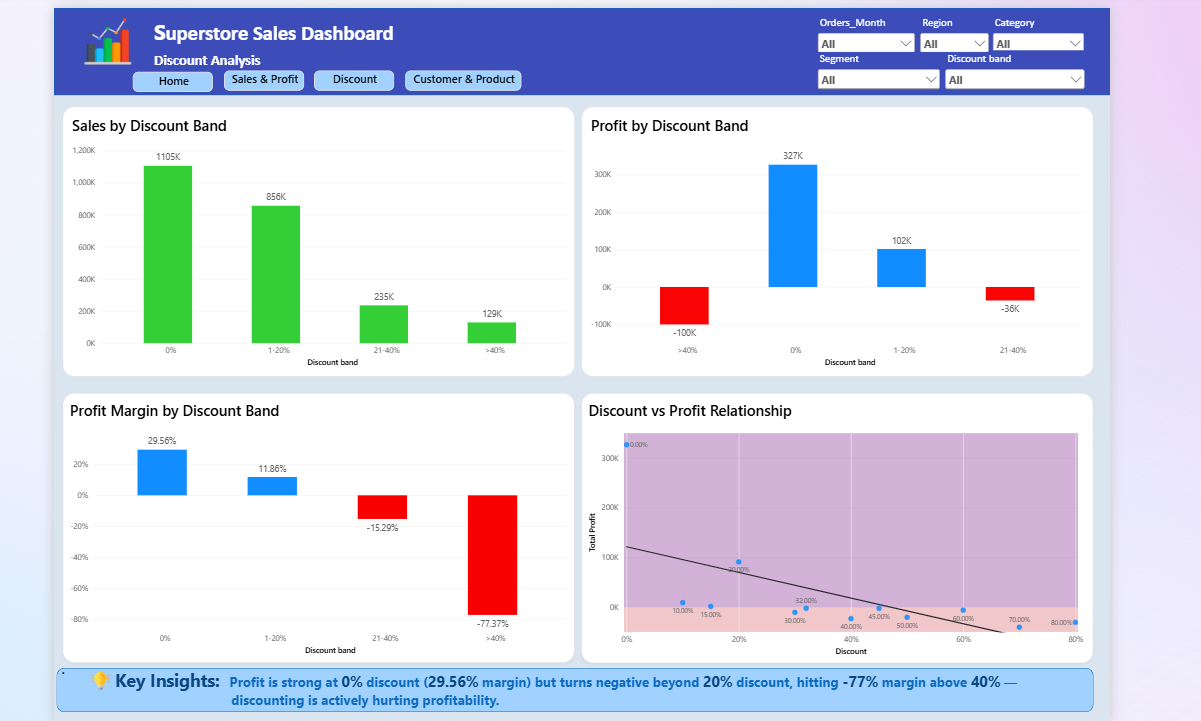

What the dashboard file says about the page in this screenshot:
{"tool":"powerbi","page":{"name":"Discount Analysis","canvas":[1920,1300],"ordinal":2},"visuals":[{"type":"group","id":"g1","title":"Group 1","box":[0,0,1920,158.6],"z":0},{"type":"shape","box":[0,0,1920,158.6],"z":0,"group":"g2"},{"type":"group","id":"g2","title":"Group 2","box":[0,0,1920,158.6],"z":0,"group":"g1"},{"type":"shape","box":[5.6,1200.8,1885.7,80],"z":0,"group":"g4"},{"type":"textbox","box":[181.6,18.8,987.1,60.5],"z":1000,"group":"g2"},{"type":"clusteredColumnChart","title":"Sales by Discount Band","fields":{"Category":["superstore_cleaned.Discount band"],"Y":["Key Measure.Total Sales"]},"box":[15.6,180,930,490],"z":1000},{"type":"textbox","box":[5.9,1200.6,1831.9,80.6],"z":1000,"group":"g4"},{"type":"textbox","box":[181.6,77.2,603.1,52.2],"z":2000,"group":"g2"},{"type":"clusteredColumnChart","title":"Profit by Discount Band","fields":{"Category":["superstore_cleaned.Discount band"],"Y":["Key Measure.Total Profit"]},"box":[960,180,930,490],"z":2000},{"type":"image","box":[53.8,1207.1,65.3,32.7],"z":2000,"group":"g4"},{"type":"slicer","fields":{"Values":["superstore_cleaned.Discount band"]},"box":[1615.3,79.3,263,79.3],"z":3000},{"type":"slicer","fields":{"Values":["superstore_cleaned.Order_Date.Variation.Date Hierarchy.Year"]},"box":[1383.7,12.5,185.7,66.8],"z":4000},{"type":"slicer","fields":{"Values":["superstore_cleaned.Segment"]},"box":[1383.7,79.3,231.7,79.3],"z":5000},{"type":"slicer","fields":{"Values":["superstore_cleaned.Region"]},"box":[1569.4,12.5,133.6,66.8],"z":6000},{"type":"slicer","fields":{"Values":["superstore_cleaned.Category"]},"box":[1702.9,12.7,175.5,63.3],"z":7000},{"type":"image","box":[32.6,18.1,132.1,85.1],"z":8000},{"type":"clusteredColumnChart","title":"Profit Margin by Discount Band","fields":{"Category":["superstore_cleaned.Discount band"],"Y":["Key Measure.Profit Margin"]},"box":[15.6,700,930,490],"z":9000},{"type":"scatterChart","title":"Discount vs Profit Relationship","fields":{"X":["superstore_cleaned.Discount"],"Y":["Key Measure.Total Profit"]},"box":[960,700,930,491.1],"z":10000},{"type":"group","id":"g3","title":"Group 9","box":[5.6,1200.6,1885.7,80.6],"z":11000},{"type":"group","id":"g4","title":"Group 3","box":[5.6,1200.6,1885.7,80.6],"z":11001,"group":"g3"}]}

Visuals, with their boxes on the page's 1920x1300 design canvas (x1, y1, x2, y2). These are canvas units, not pixel positions in the 1201x721 screenshot, which may show the page scaled, cropped or inside an application window:
"Group 1" group: <box>0,0,1920,159</box>
shape: <box>0,0,1920,159</box>
"Group 2" group: <box>0,0,1920,159</box>
shape: <box>6,1201,1891,1281</box>
textbox: <box>182,19,1169,79</box>
"Sales by Discount Band" clusteredColumnChart: <box>16,180,946,670</box>
textbox: <box>6,1201,1838,1281</box>
textbox: <box>182,77,785,129</box>
"Profit by Discount Band" clusteredColumnChart: <box>960,180,1890,670</box>
image: <box>54,1207,119,1240</box>
slicer - superstore_cleaned.Discount band: <box>1615,79,1878,159</box>
slicer - superstore_cleaned.Order_Date.Variation.Date Hierarchy.Year: <box>1384,12,1569,79</box>
slicer - superstore_cleaned.Segment: <box>1384,79,1615,159</box>
slicer - superstore_cleaned.Region: <box>1569,12,1703,79</box>
slicer - superstore_cleaned.Category: <box>1703,13,1878,76</box>
image: <box>33,18,165,103</box>
"Profit Margin by Discount Band" clusteredColumnChart: <box>16,700,946,1190</box>
"Discount vs Profit Relationship" scatterChart: <box>960,700,1890,1191</box>
"Group 9" group: <box>6,1201,1891,1281</box>
"Group 3" group: <box>6,1201,1891,1281</box>
